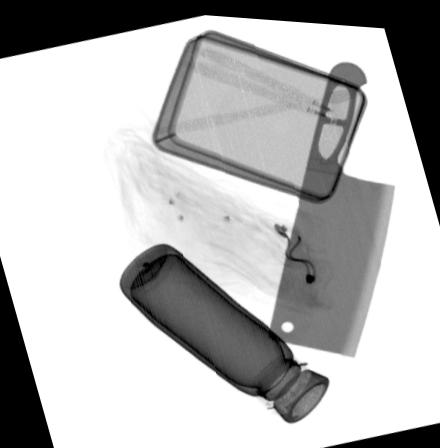Knife: (267, 54, 395, 354)
